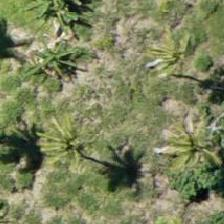coconut_tree: (115, 3, 205, 93), (27, 98, 117, 188), (154, 115, 223, 205)
